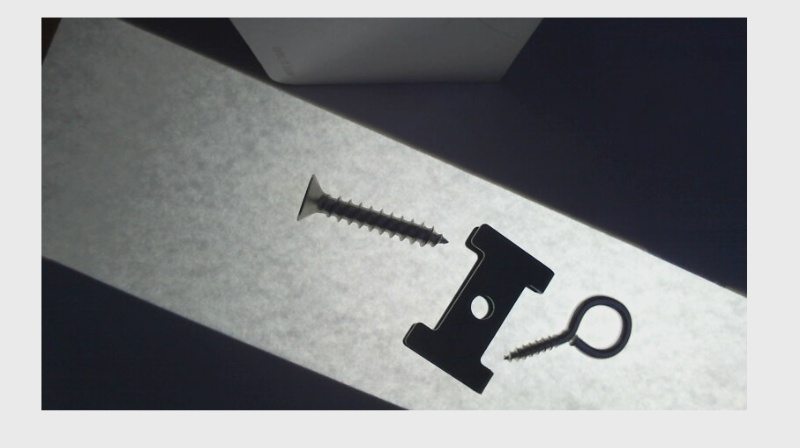O001: (501, 293, 633, 364)
O002: (398, 224, 555, 395)
S001: (296, 173, 449, 247)
